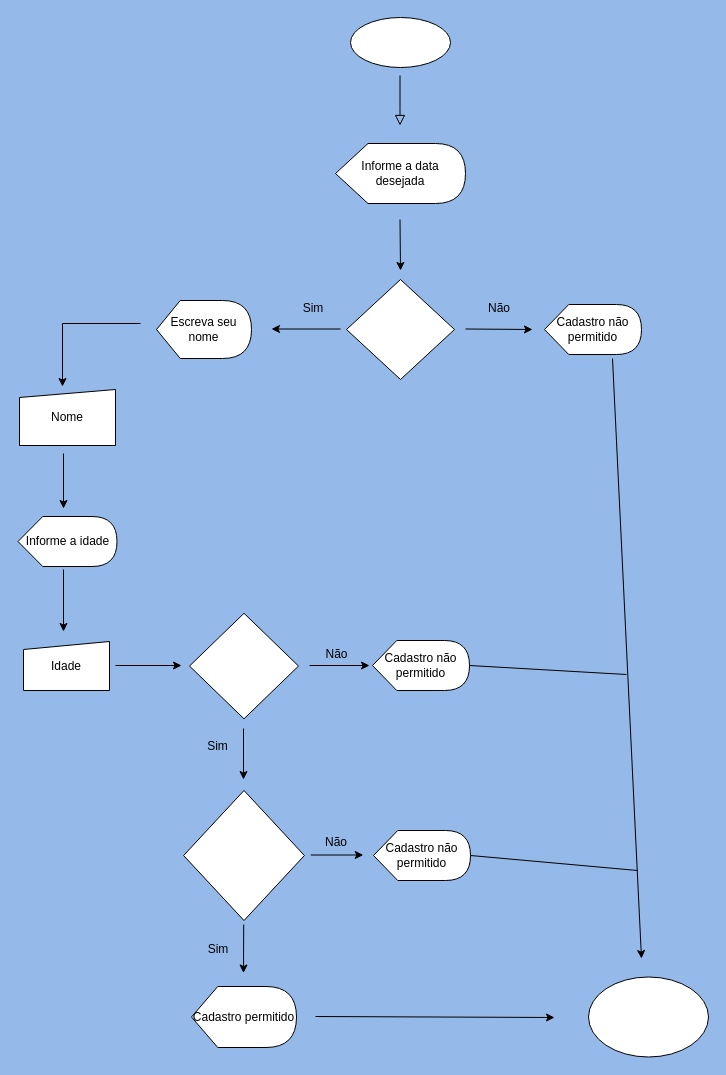
Some shapes in this 726 by 1075 pixel diagram are drawn without their labels. The shapes that lost their labels are listed below. From the top down, each one's centre as x and y in pixels, then its label:
[400,42]: Início
[400,329]: Data posterior a atual ?
[243,665]: Idade maior ou igual a 18?
[243,855]: Número de participantes é menor ou igual a 100 ?
[648,1016]: FIM
